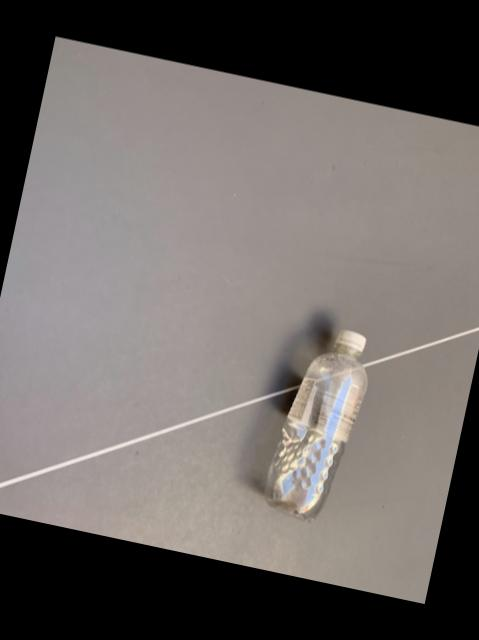plastic: (264, 331, 366, 522)
